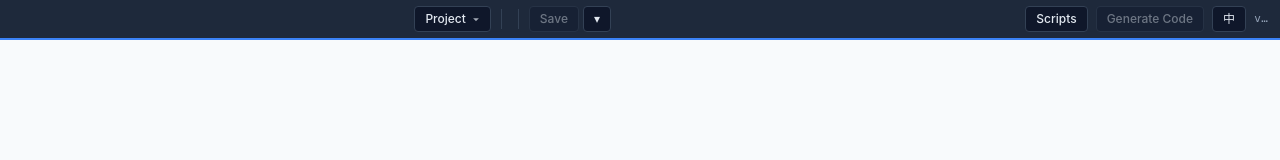
it: AppHeader save overflow menu (P2, spec §4.2) › Escape closes the save overflow menu
The width and height of the screenshot is (1280, 160).
Click the button with test id "btn-save-overflow" at (597, 19), box left=583, top=6, right=611, bottom=32
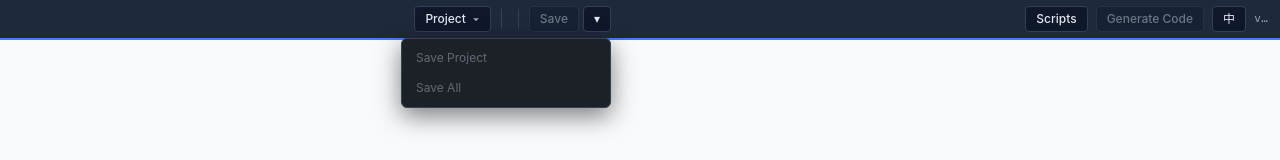
Expected: the menu item with test id "btn-save-all" is shown, left=406, top=73, right=606, bottom=103
Press Escape
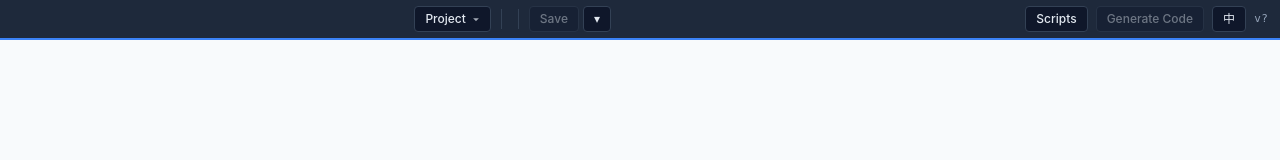
Expected: the menu item with test id "btn-save-all" is gone
